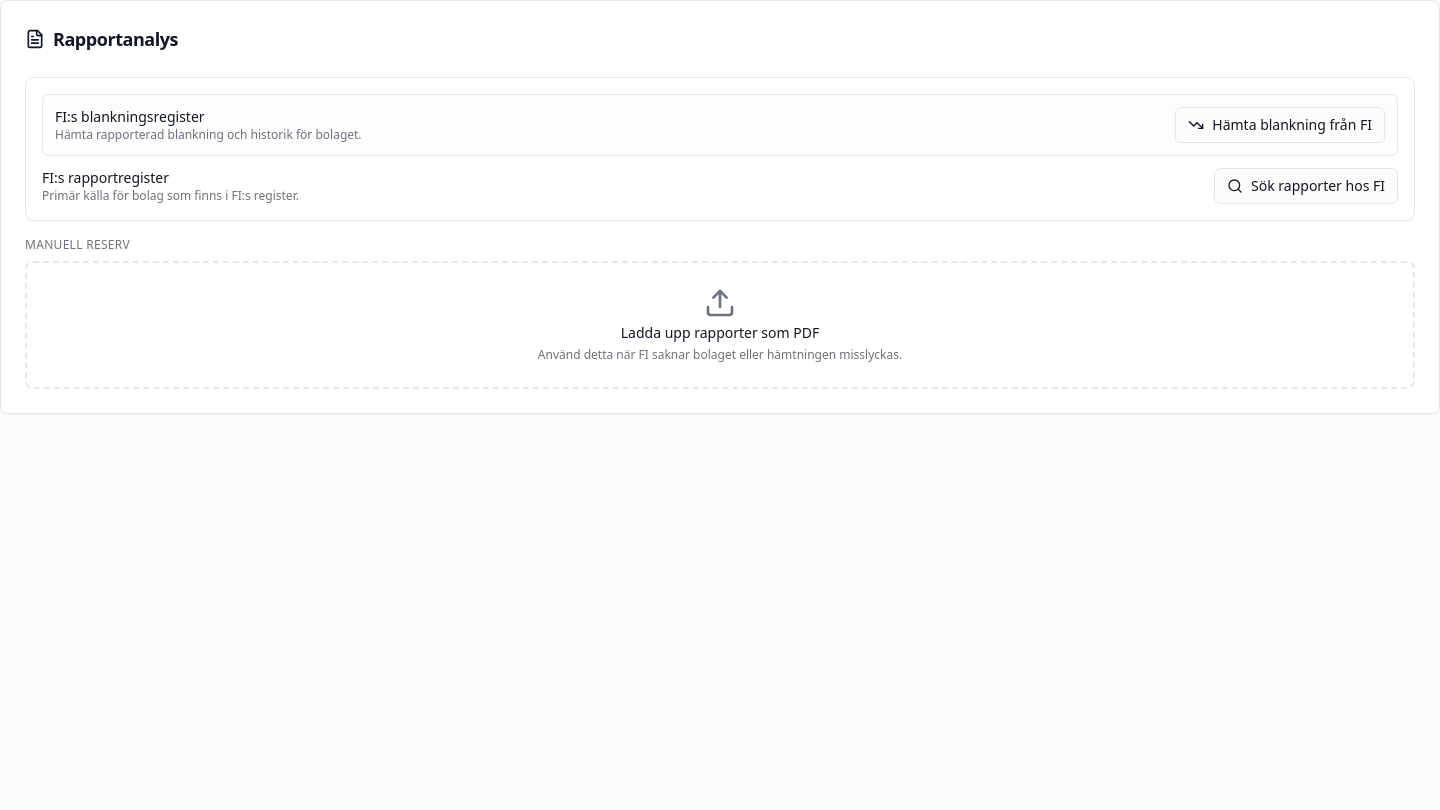
ReportAnalyzer FI workflow › hides year-end releases by default and shows them when selected
Click the button "Sök rapporter hos FI" at (1306, 186), box [1214,168,1398,204]
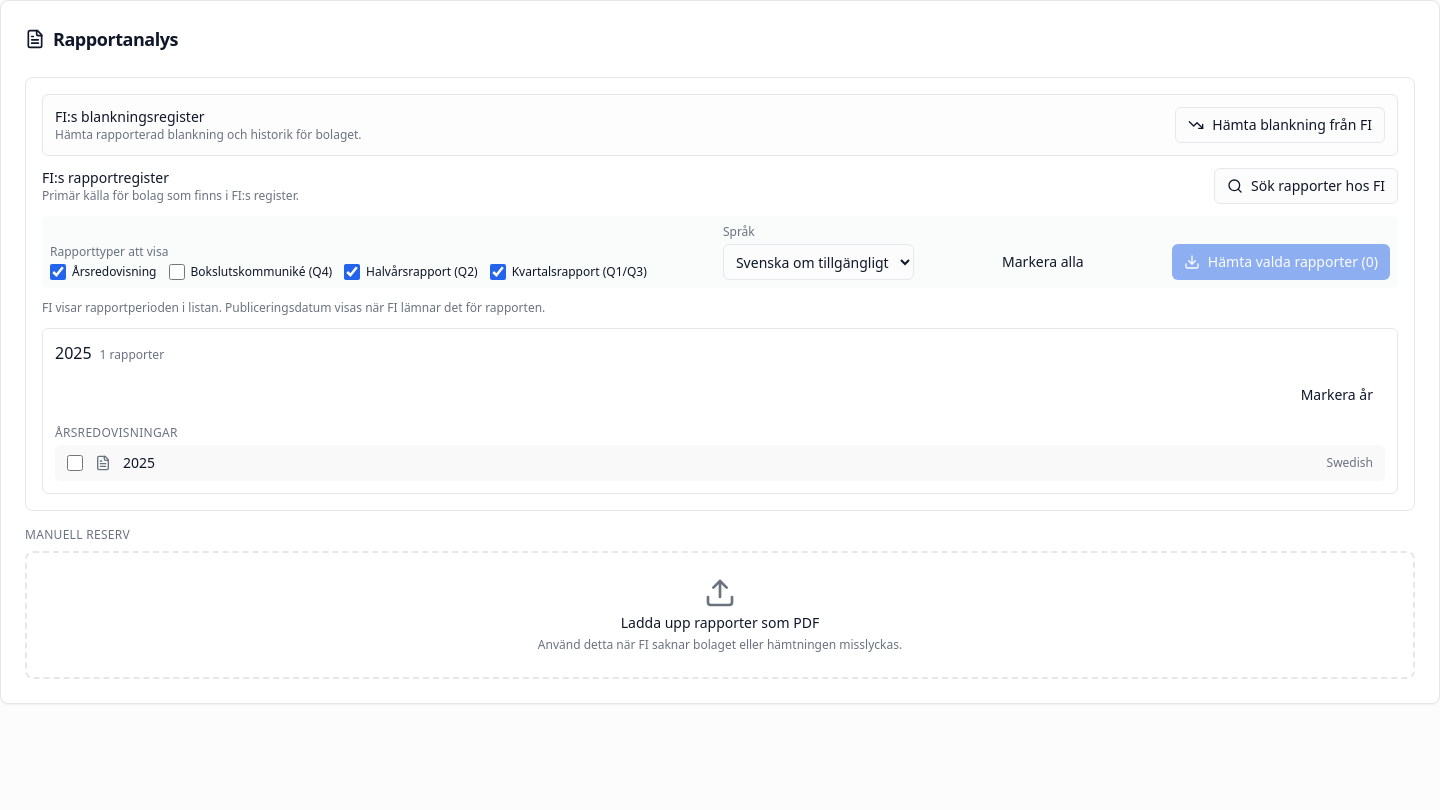
Expected: the checkbox named "Välj 2025 Annual report Swedish" is shown, [67,455,83,471]
Click the checkbox named "Rapporttyp Bokslutskommuniké (Q4)" at (176, 272), box [168,264,184,280]
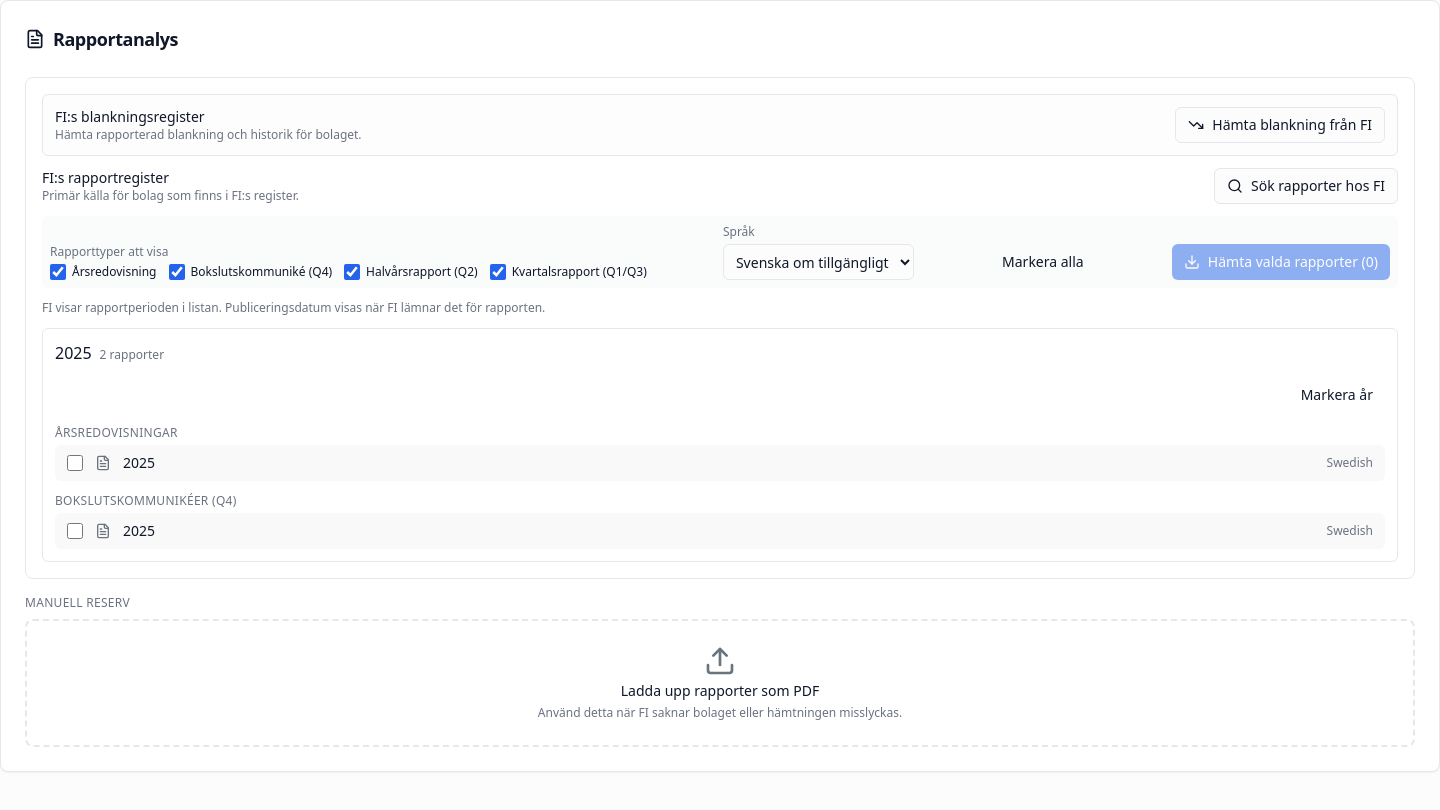
Expected: the checkbox named "Välj 2025 Year-end release Swedish" is shown, [67,523,83,539]
Expected: the heading "Bokslutskommunikéer (Q4)" is shown, [55,492,237,509]
